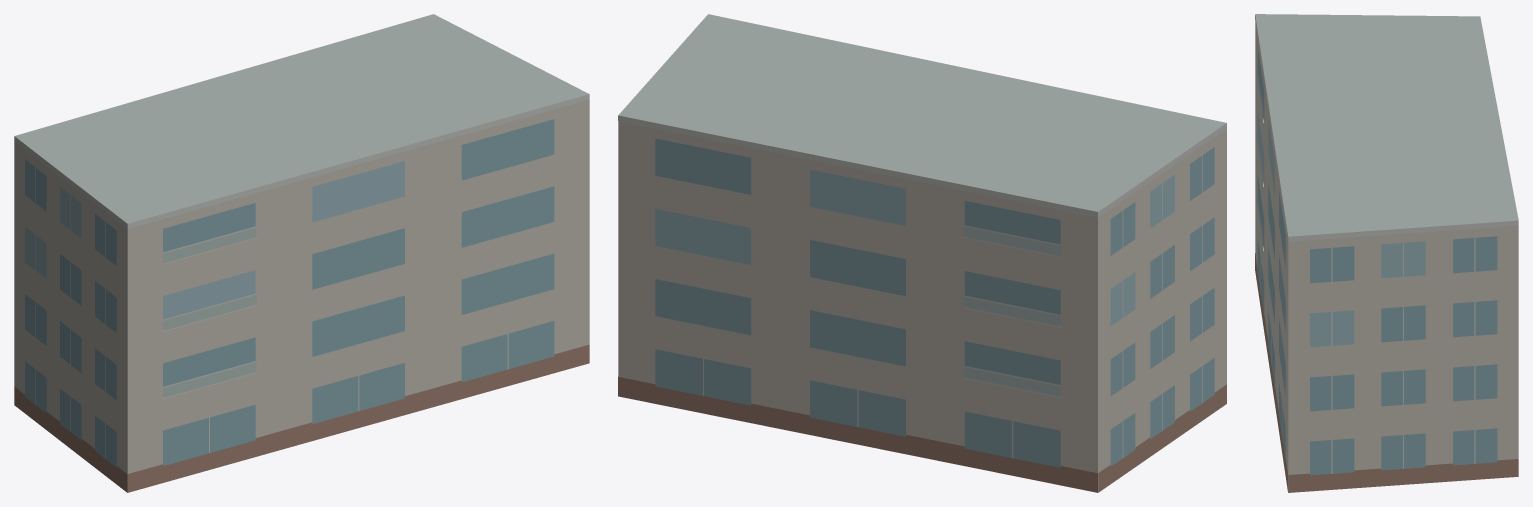
Rendered from residential-f24fff42-6d4e-489e-b3e0-edfbdb799b8e.glb.
3 views of the same model, side by side, from view 1: azimuth 30°, elevation 25°; view 2: azimuth 150°, elevation 25°; view 3: azimuth 270°, elevation 25° (orthographic). The views are drawn at different scales.
Visible parts, largest first — view 1: residential-f24fff42-6d4e-489e-b3e0-edfbdb799b8e.tmp; view 2: residential-f24fff42-6d4e-489e-b3e0-edfbdb799b8e.tmp; view 3: residential-f24fff42-6d4e-489e-b3e0-edfbdb799b8e.tmp.
Part boxes in pixels (bbox=[...]): residential-f24fff42-6d4e-489e-b3e0-edfbdb799b8e.tmp: bbox=[14, 14, 589, 492]; residential-f24fff42-6d4e-489e-b3e0-edfbdb799b8e.tmp: bbox=[618, 14, 1226, 492]; residential-f24fff42-6d4e-489e-b3e0-edfbdb799b8e.tmp: bbox=[1255, 14, 1518, 492].
Bounding box in the file's own units: 22.76 × 12.2 × 11.39.
